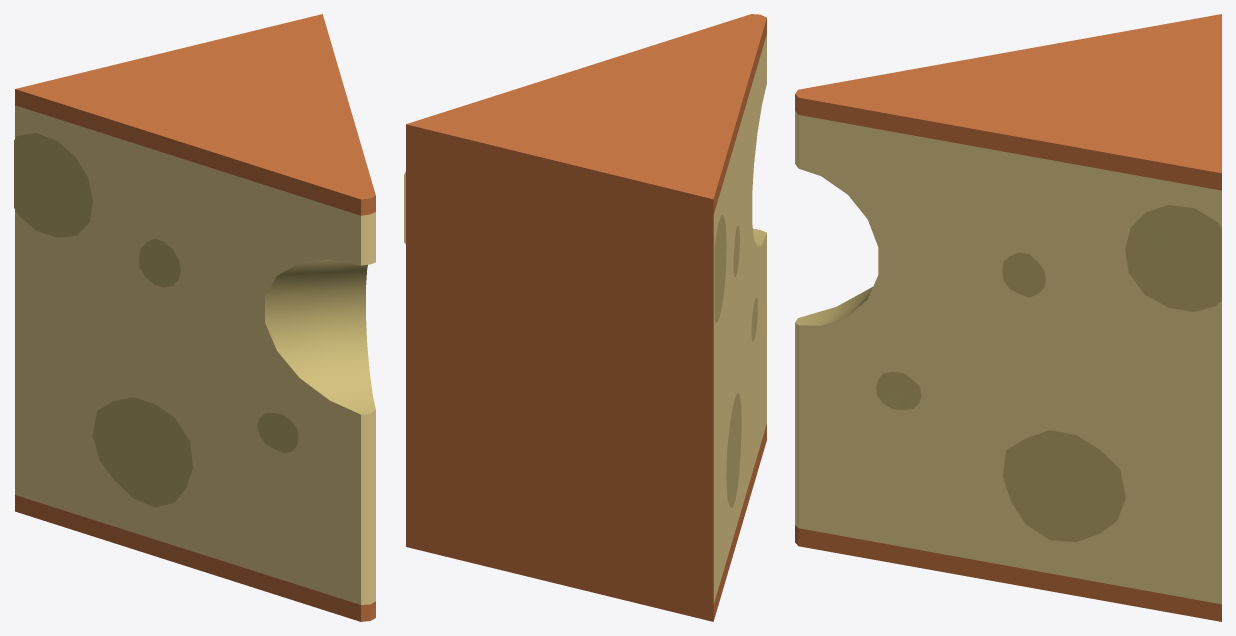
The model's file is cheese_right.fbx.
3 renders of one model, left to right at view 1: azimuth 30°, elevation 25°; view 2: azimuth 150°, elevation 25°; view 3: azimuth 270°, elevation 25°, orthographic. The views are drawn at different scales.
Parts seen in each view (by area): view 1: Cheese; view 2: Cheese; view 3: Cheese.
Part boxes in pixels (x1,y1,x2,y2): Cheese: (14, 14, 375, 621); Cheese: (404, 14, 766, 621); Cheese: (795, 14, 1221, 621).
Bounding box in the file's own units: 17.3 × 22.49 × 19.39.
